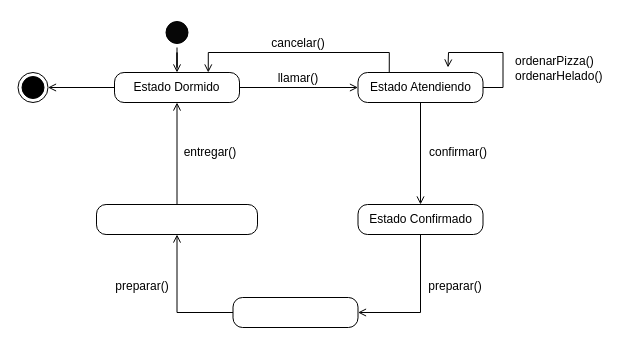
The diagram is 619 pixels wide and 345 high, and some of its shapes have lost their labels. The centre of each missing label's shape, as x and y in pixels:
"Estado Esperando Entrega" belongs at point 177,219.
"Estado Preparando" belongs at point 295,312.
